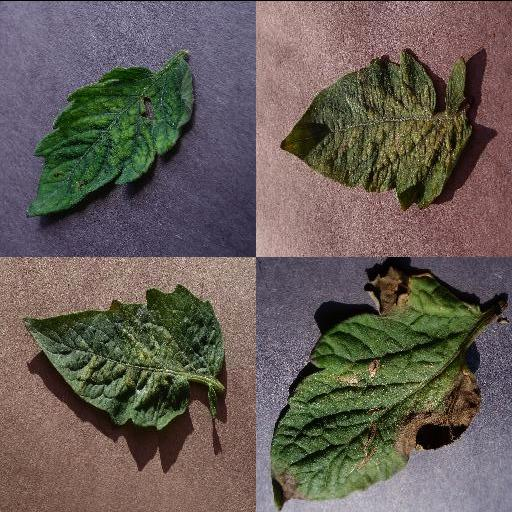Late Blight: (266, 265, 482, 509)
Mosaic Virus: (21, 57, 195, 217)
Spider Mites: (280, 45, 474, 211), (21, 284, 225, 428)
